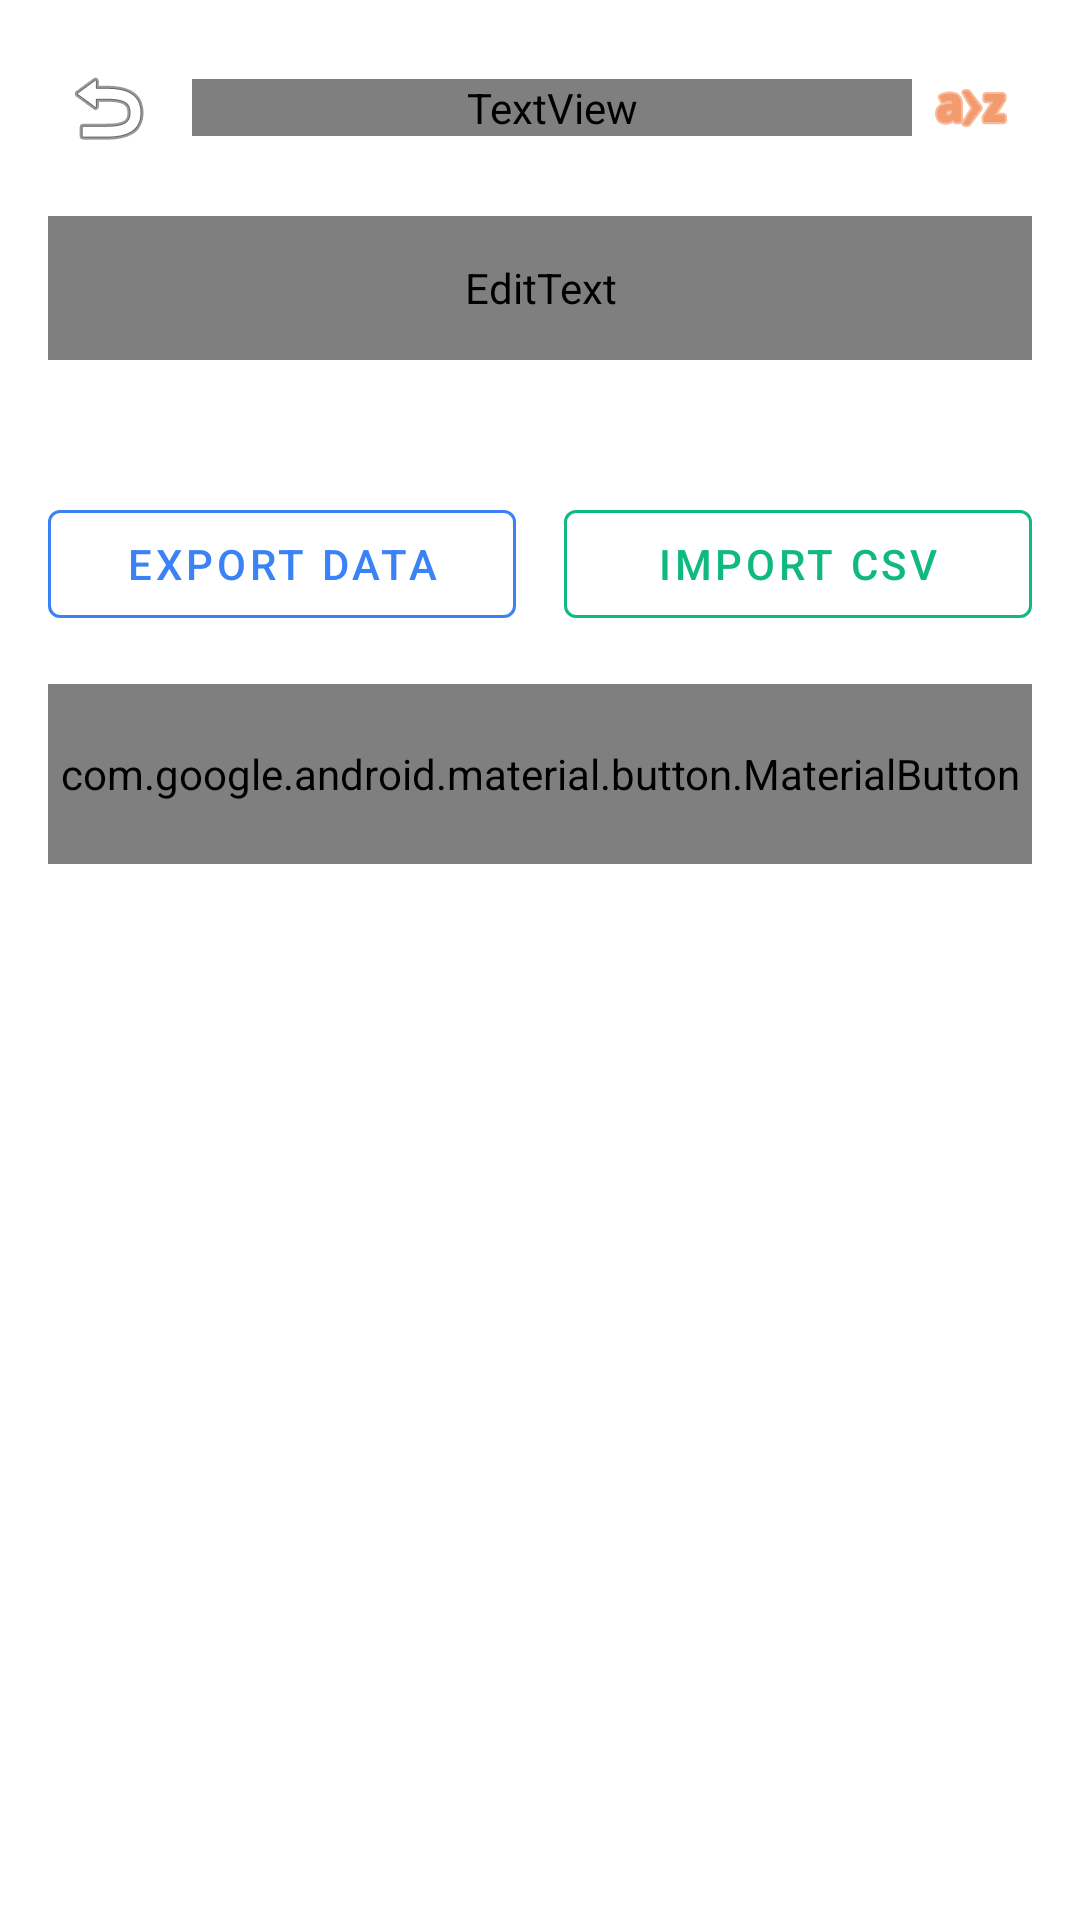

Icon click points for this 1080×1920 phone screenshot, format point (x, y):
revert: point (109, 108)
sort alphabetically: point (971, 108)
